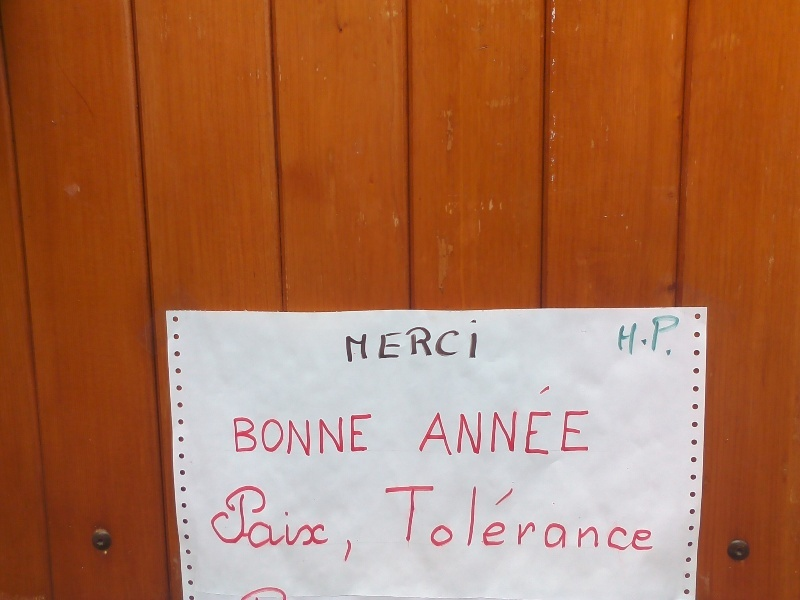text: (433, 378, 448, 457), (449, 378, 464, 457), (465, 378, 480, 457), (481, 378, 496, 457), (497, 378, 512, 457), (513, 378, 528, 457), (529, 378, 544, 457), (545, 378, 560, 457), (561, 378, 576, 457), (577, 378, 592, 457), (385, 483, 400, 554), (401, 483, 416, 554), (417, 483, 432, 554), (433, 483, 448, 554), (449, 483, 464, 554), (465, 483, 480, 554), (481, 483, 496, 554), (497, 483, 512, 554), (513, 483, 528, 554), (529, 483, 544, 554), (545, 483, 560, 554), (561, 483, 576, 554), (577, 483, 592, 554), (593, 483, 608, 554), (609, 483, 624, 554), (625, 483, 640, 554), (641, 483, 656, 554), (225, 481, 240, 550), (241, 481, 256, 550), (257, 481, 272, 550), (273, 481, 288, 550), (289, 481, 304, 550), (305, 481, 320, 550), (321, 481, 334, 550), (465, 317, 481, 366), (213, 481, 224, 550), (353, 317, 368, 366), (369, 317, 384, 366), (385, 317, 400, 366), (401, 317, 416, 366), (417, 317, 432, 366), (433, 317, 448, 366), (449, 317, 464, 366), (625, 312, 640, 361), (641, 312, 656, 361), (657, 312, 672, 361), (241, 412, 256, 456), (257, 412, 272, 456), (273, 412, 288, 456), (289, 412, 304, 456), (305, 412, 320, 456), (321, 412, 336, 456), (337, 412, 352, 456), (353, 412, 368, 456), (673, 312, 682, 361), (657, 483, 663, 554), (231, 412, 240, 456), (344, 317, 352, 366), (617, 312, 624, 361), (369, 412, 376, 456), (342, 538, 352, 564), (430, 378, 432, 457), (593, 378, 595, 457), (353, 538, 359, 564), (383, 483, 384, 554)
